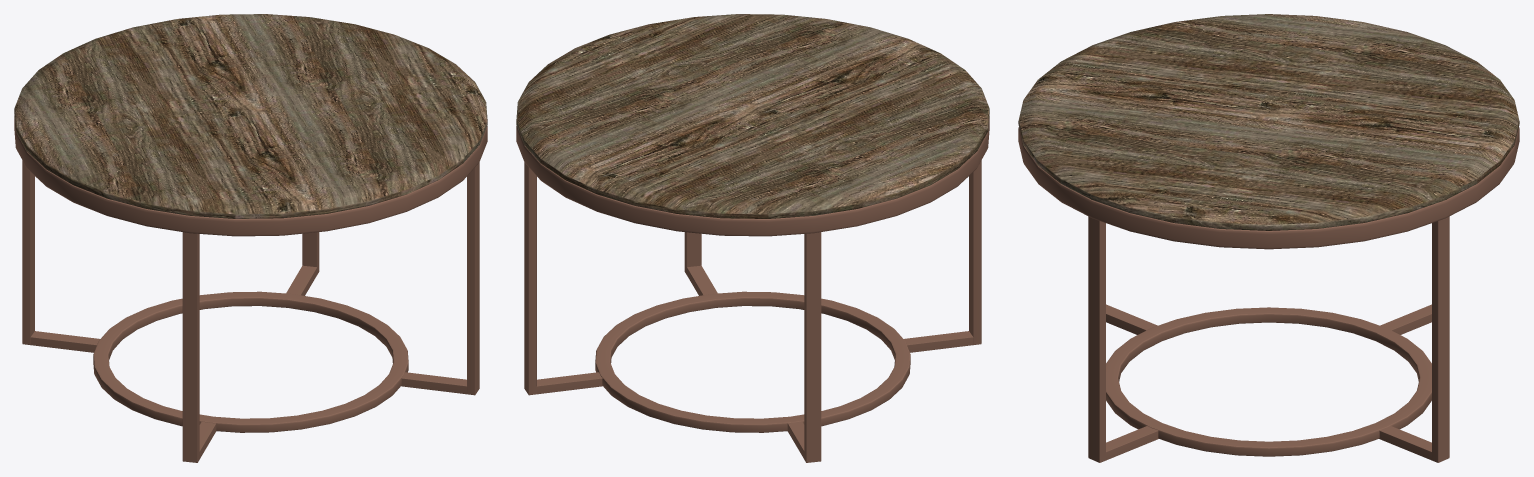
Rendered from MEGA_PACK_Table__table-86358_frame_travertino_a600.glb.
3 renders of one model, left to right at view 1: azimuth 30°, elevation 25°; view 2: azimuth 150°, elevation 25°; view 3: azimuth 270°, elevation 25°, orthographic. The views are drawn at different scales.
Visible parts, largest first — view 1: table-86358_frame_travertino_a600; view 2: table-86358_frame_travertino_a600; view 3: table-86358_frame_travertino_a600.
Boxes of the visible parts, x1,y1,x2,y2 form: table-86358_frame_travertino_a600: (14, 14, 487, 462); table-86358_frame_travertino_a600: (516, 14, 989, 462); table-86358_frame_travertino_a600: (1018, 14, 1519, 462).
Size of the model in its own units: 0.6 by 0.36 by 0.6.
1 material, 1 textured.
